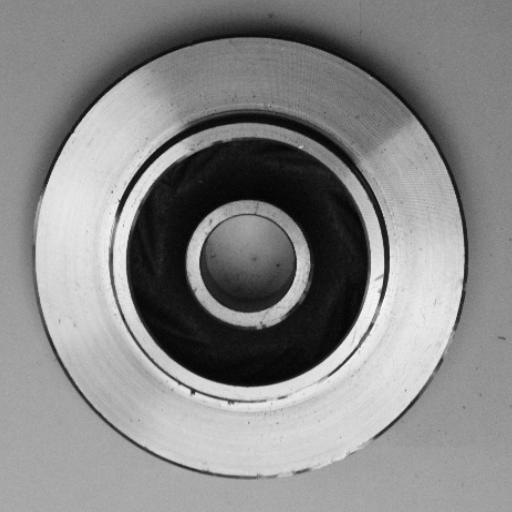crack: (184, 381, 208, 405)
scratch: (247, 437, 385, 487), (248, 376, 335, 415)
unpolished_casting: (30, 33, 469, 480)
